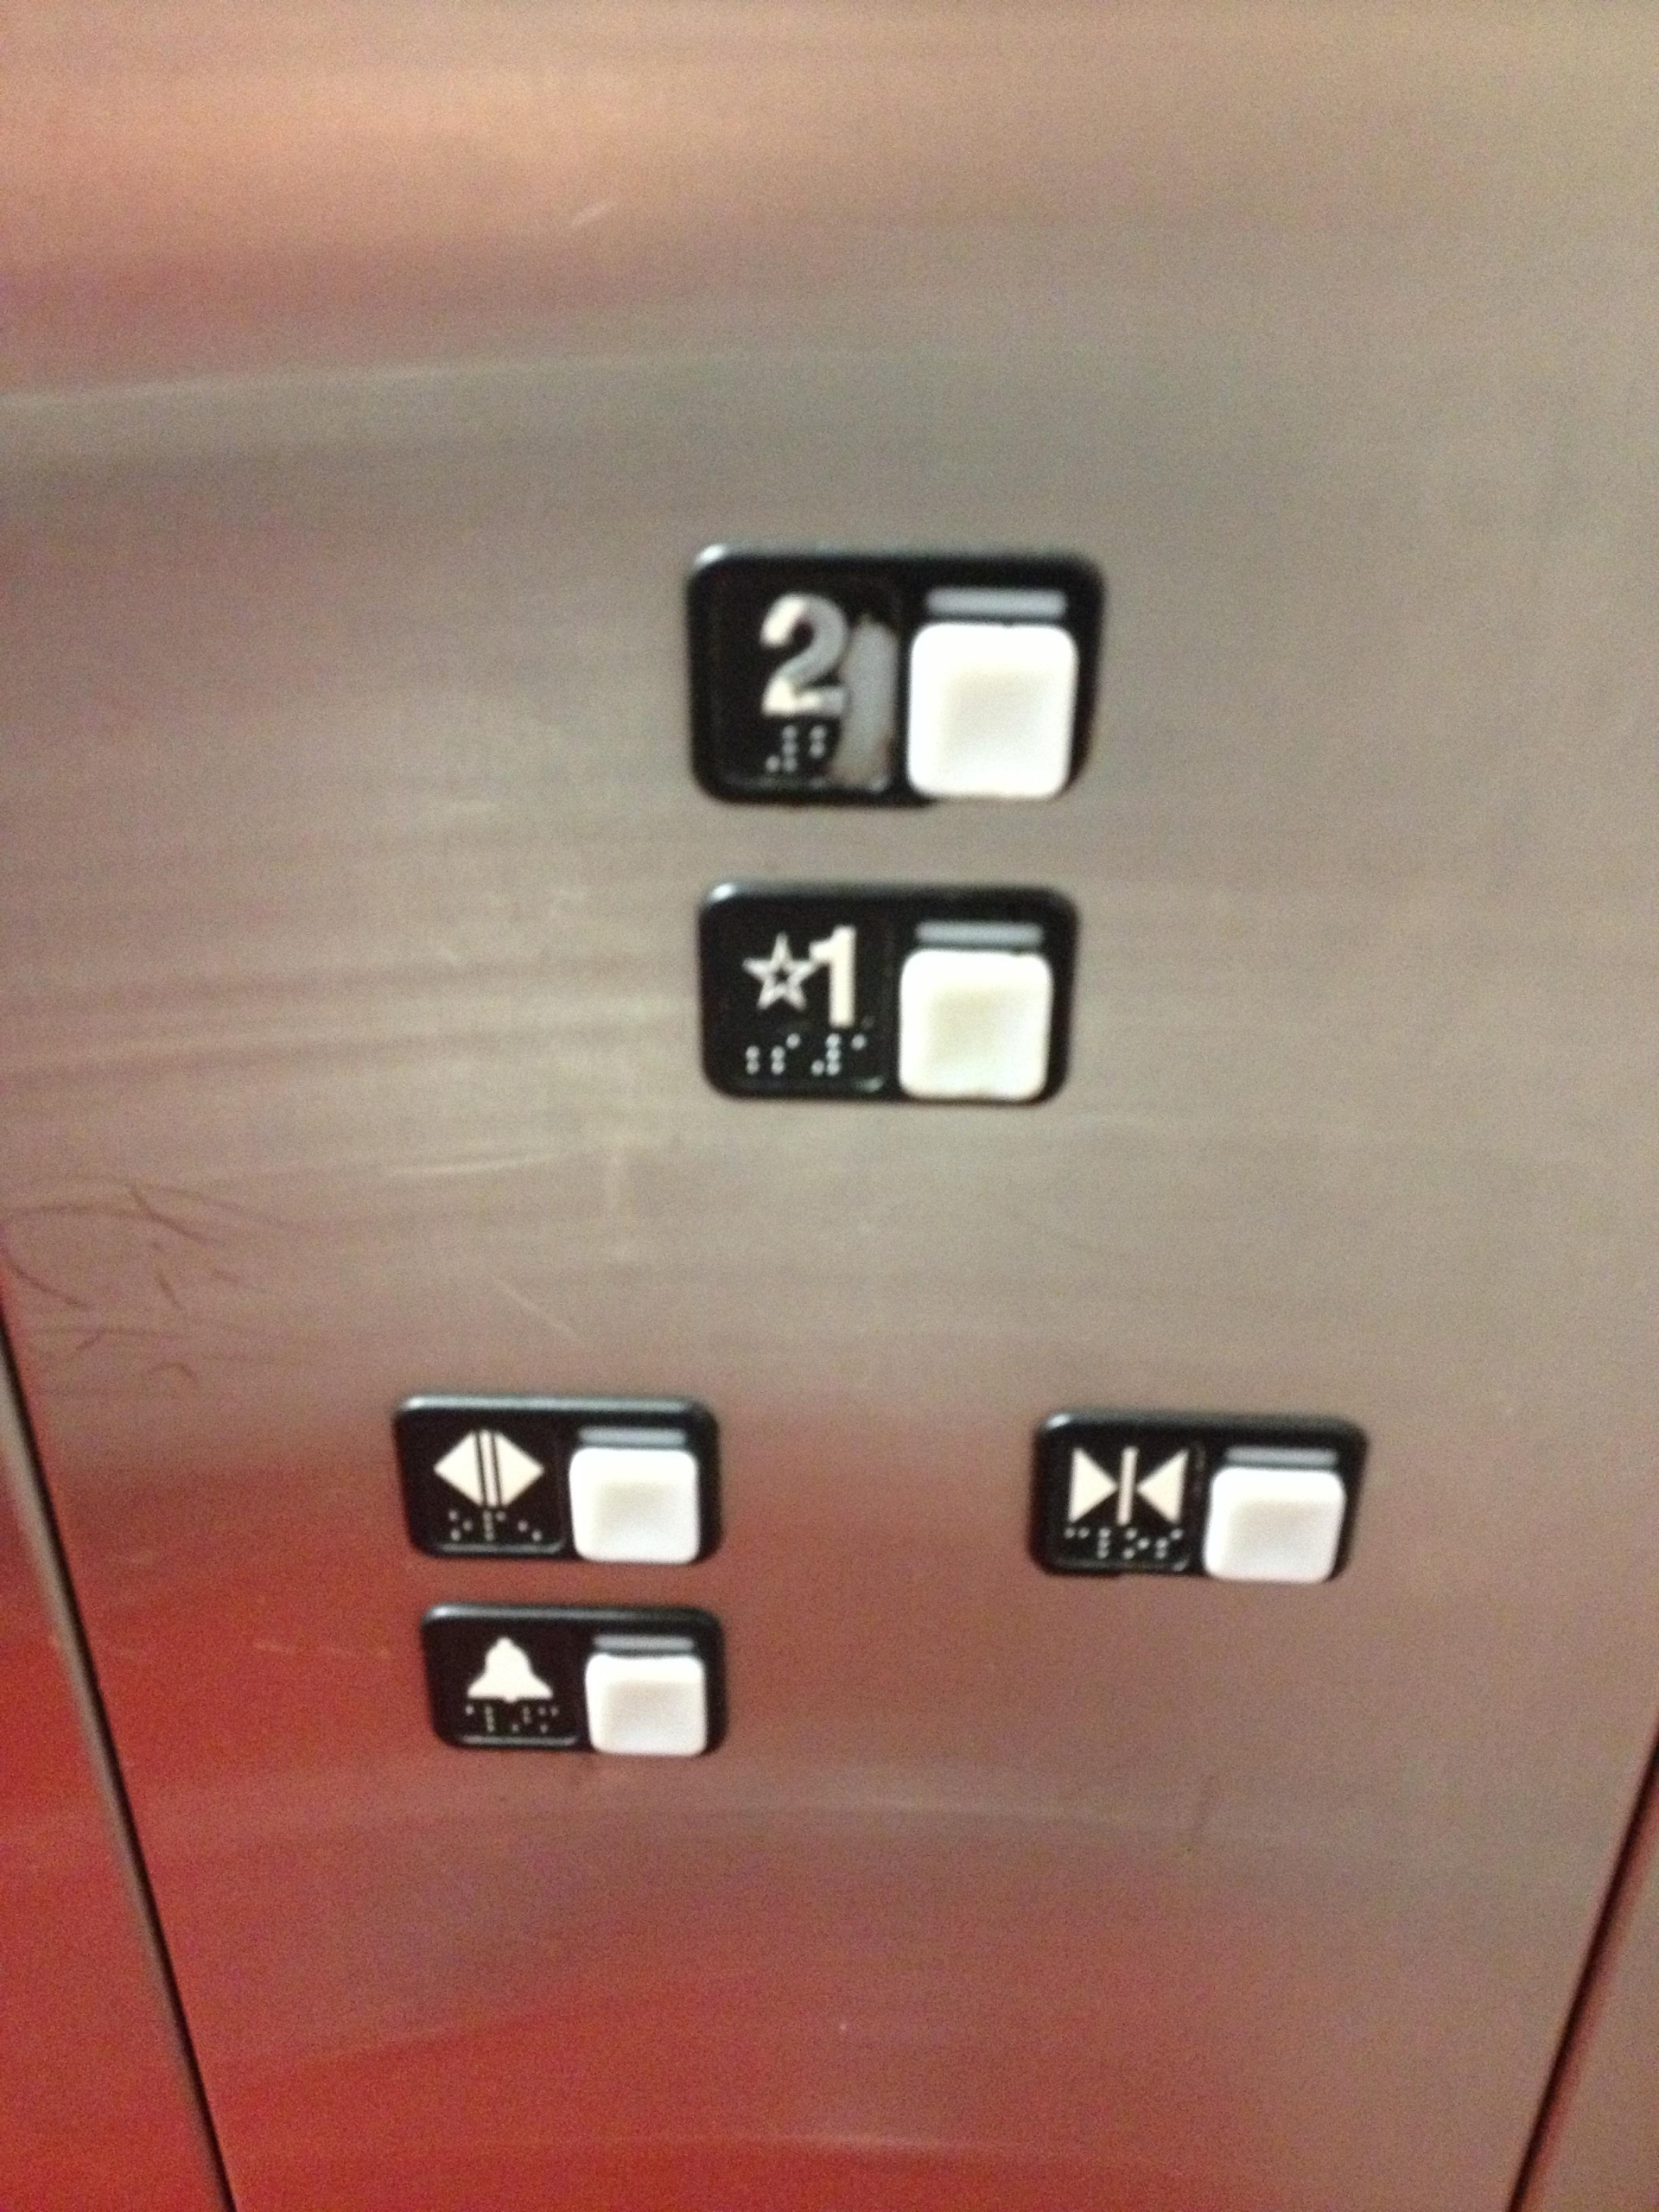2: (678, 536, 1121, 819)
alarm: (415, 1594, 739, 1770)
close: (1018, 1400, 1377, 1592)
open: (387, 1388, 723, 1573)
s1: (687, 869, 1091, 1118)
